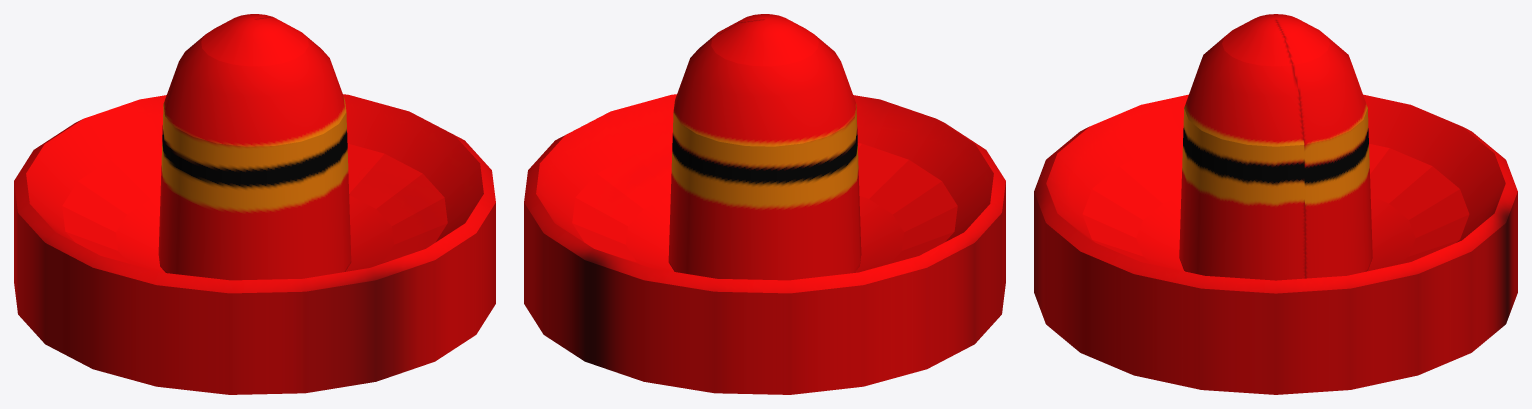
The model's file is pusher2.fbx.
The picture shows the model from 3 angles, left to right: view 1: azimuth 30°, elevation 25°; view 2: azimuth 150°, elevation 25°; view 3: azimuth 270°, elevation 25°; orthographic projection.
Visible parts, largest first — view 1: Pusher2; view 2: Pusher2; view 3: Pusher2.
Boxes of the visible parts, left/top/right/bottom form: Pusher2: left=14, top=14, right=495, bottom=394; Pusher2: left=524, top=14, right=1005, bottom=394; Pusher2: left=1034, top=14, right=1517, bottom=394.
Bounding box in the file's own units: 16.06 × 10.01 × 16.06.
